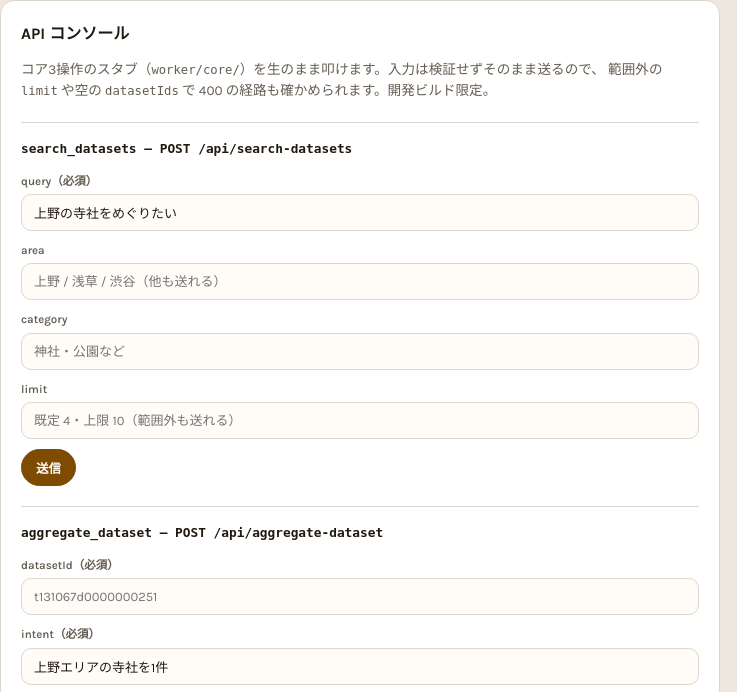
Scenario: ApiConsole › 400 応答は unanswered と区別された「エラー応答」として表示される
Click the button "送信" below "category".
click(48, 468)  # box [21,449,76,486]
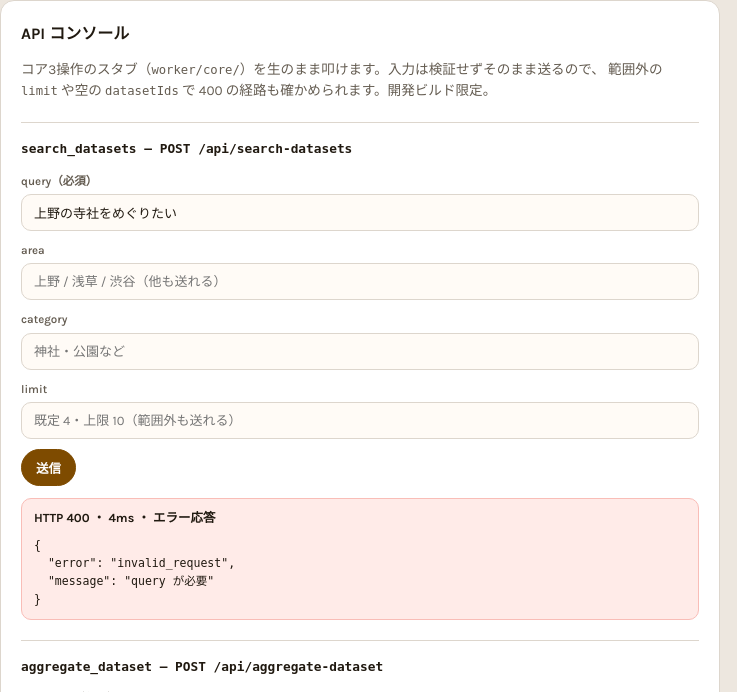
Expected: the message shows "エラー応答", [34,511,215,525]
Expected: the text "{ \"error\": \"invalid_request\", \"message\": \"query が必要\" }" is shown, [34,538,235,606]
